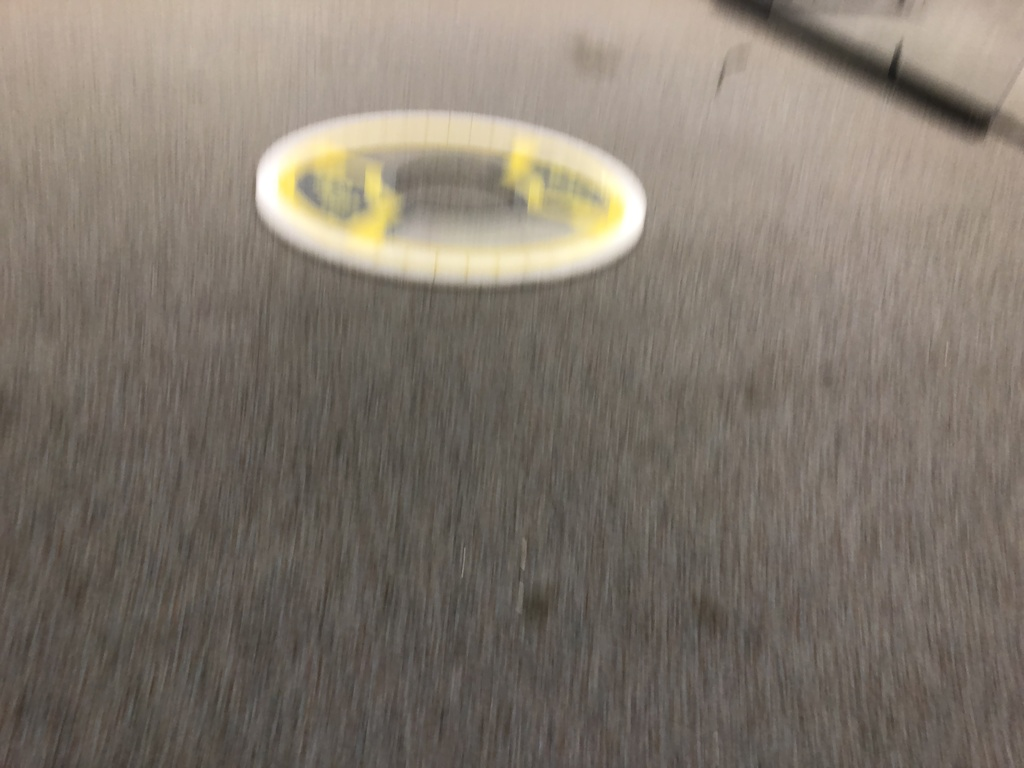hatch_panel: (236, 85, 673, 293)
